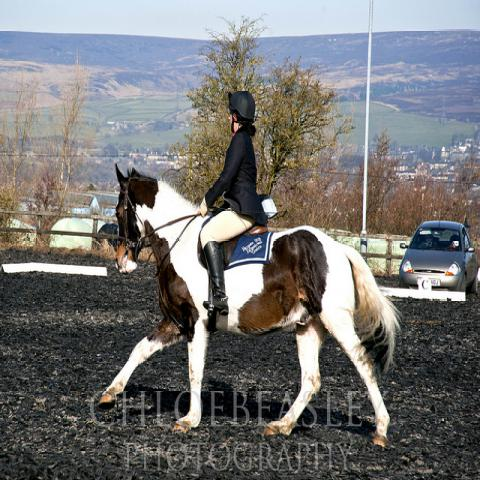car: (398, 220, 479, 294)
